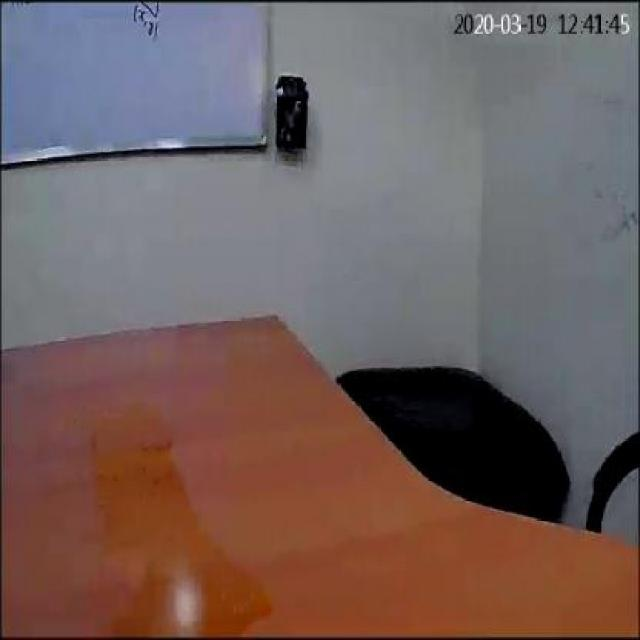spill: (93, 406, 270, 634)
